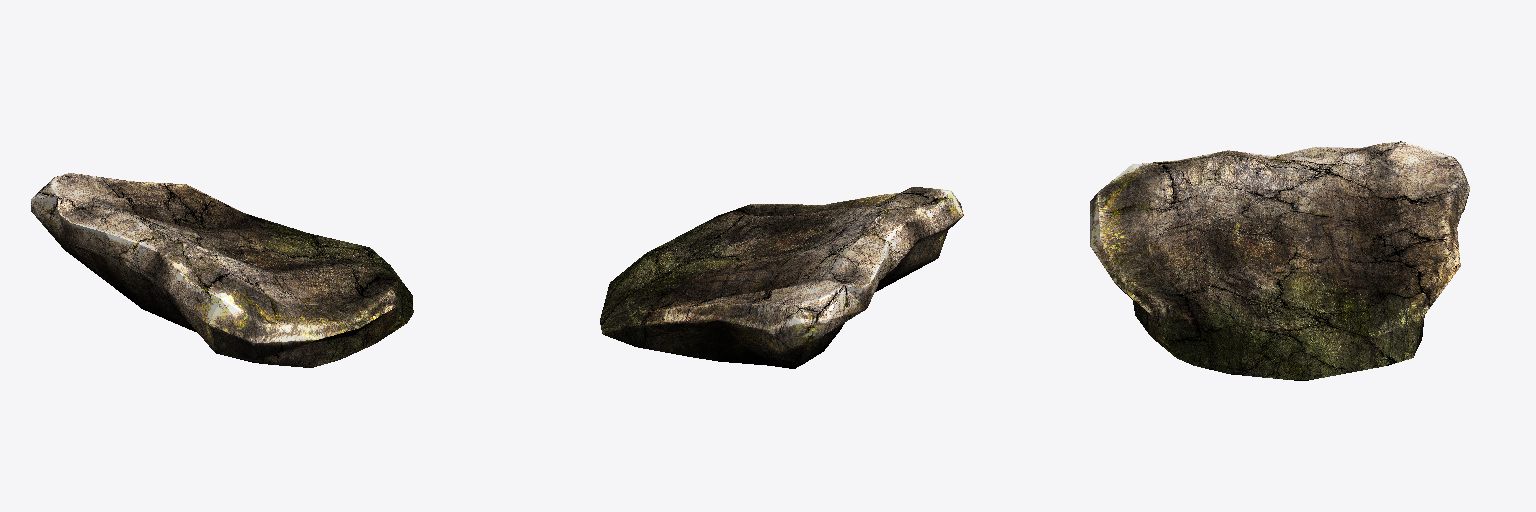
3 renders of one model, left to right at view 1: azimuth 30°, elevation 25°; view 2: azimuth 150°, elevation 25°; view 3: azimuth 270°, elevation 25°, orthographic.
Visible parts, largest first — view 1: rock_008 rock_008; view 2: rock_008 rock_008; view 3: rock_008 rock_008.
Boxes of the visible parts, x1,y1,x2,y2 form: rock_008 rock_008: [31, 173, 413, 367]; rock_008 rock_008: [600, 187, 963, 368]; rock_008 rock_008: [1090, 141, 1469, 380].
Size of the model in its own units: 612 by 215 by 689.
Materials: 1 (1 with a texture image).